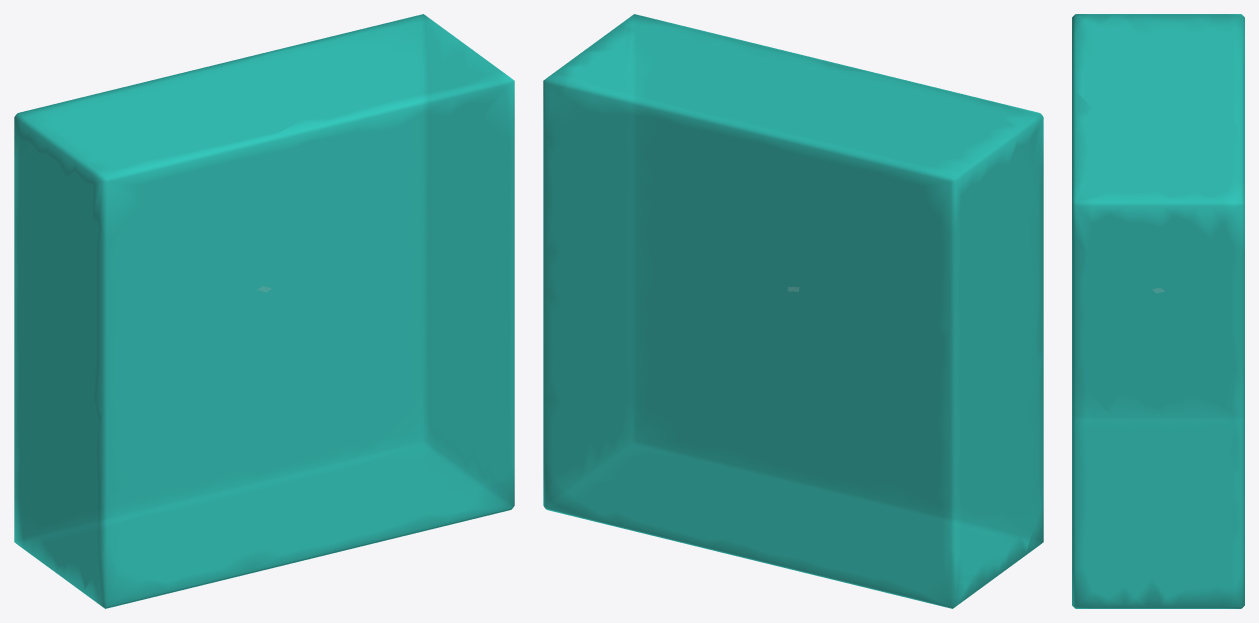
3 renders of one model, left to right at view 1: azimuth 30°, elevation 25°; view 2: azimuth 150°, elevation 25°; view 3: azimuth 270°, elevation 25°, orthographic. The views are drawn at different scales.
Visible parts, largest first — view 1: Liquid_Domain; view 2: Liquid_Domain; view 3: Liquid_Domain.
Boxes of the visible parts, bbox=[...] form: Liquid_Domain: bbox=[14, 14, 514, 608]; Liquid_Domain: bbox=[543, 14, 1043, 608]; Liquid_Domain: bbox=[1072, 14, 1244, 608].
Bounding box in the file's own units: 1948 × 1948 × 748.
